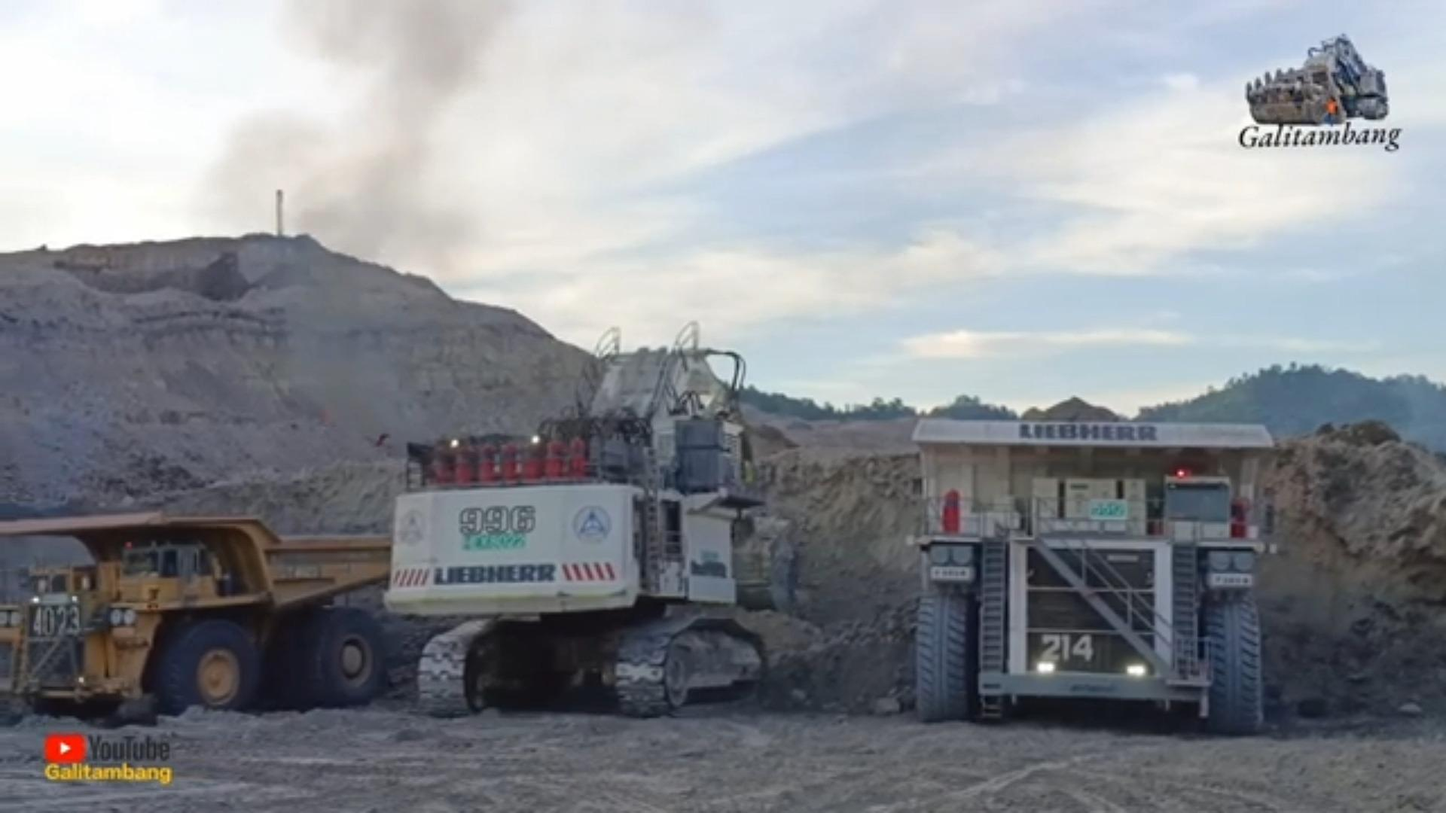Excavator: (383, 323, 767, 717)
HD-Truck: (907, 399, 1280, 735), (0, 511, 391, 723)
